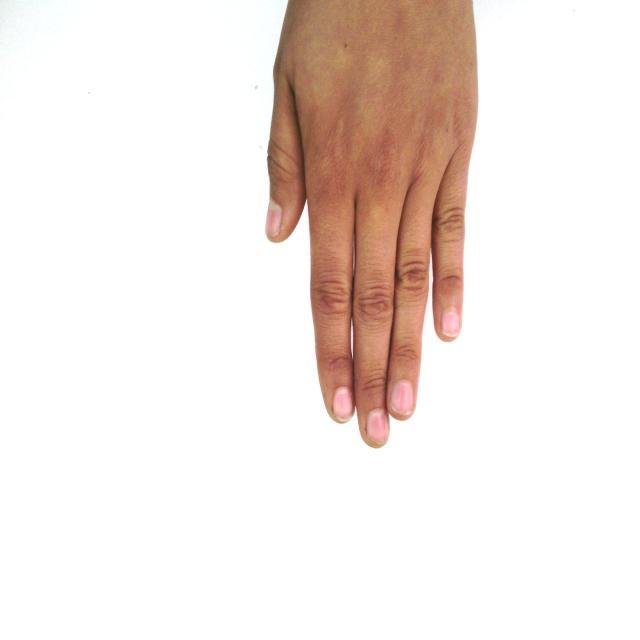Fingernail: (391, 381, 413, 415), (367, 410, 387, 444), (334, 387, 353, 421), (266, 203, 281, 237), (443, 309, 460, 335)
